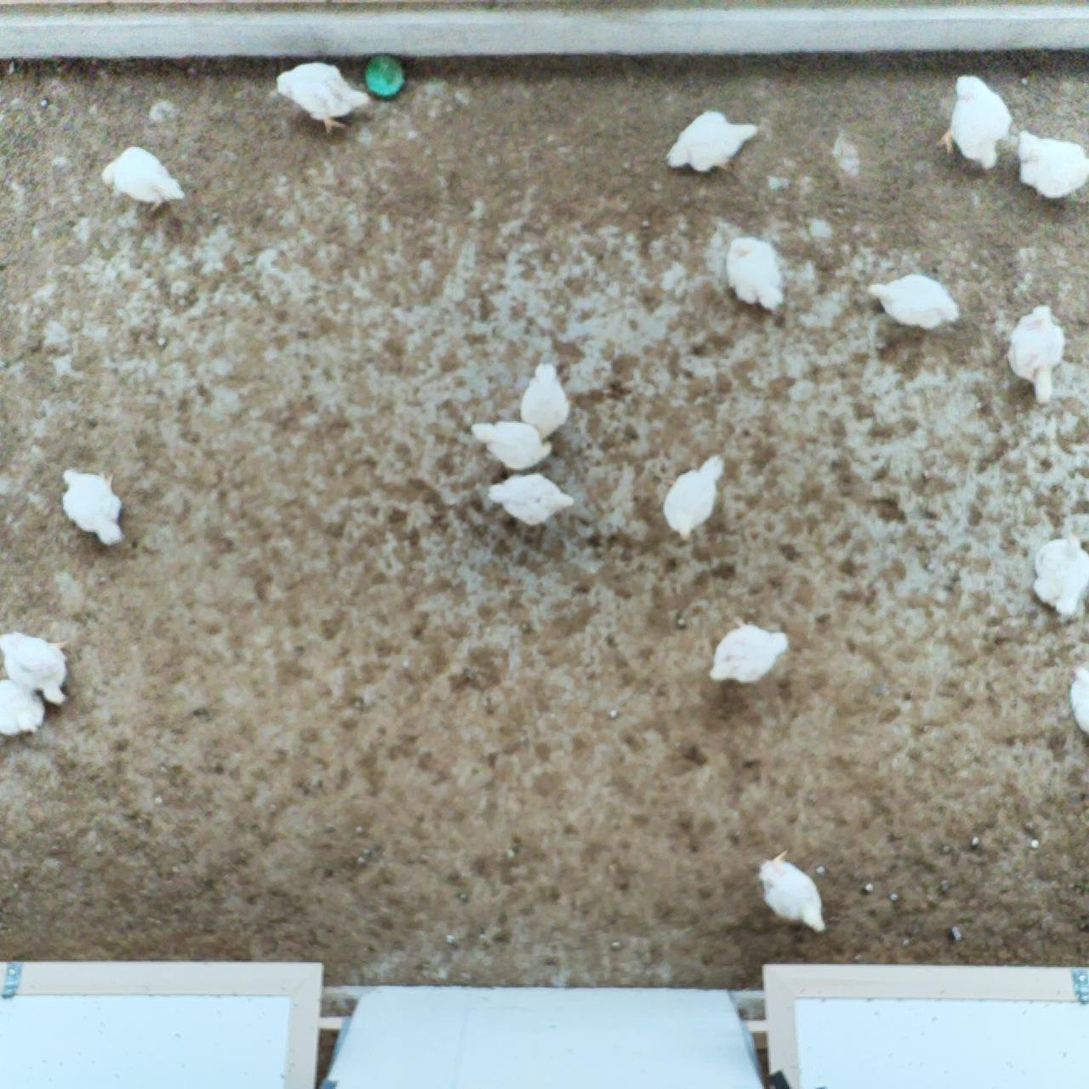chicken: (935, 71, 1015, 175), (273, 59, 373, 138), (661, 106, 764, 179), (1002, 300, 1071, 408), (754, 845, 829, 936), (660, 450, 730, 543), (99, 142, 187, 214), (865, 272, 965, 334), (1013, 127, 1089, 207), (0, 630, 75, 706), (721, 232, 791, 313), (60, 465, 126, 548), (1027, 531, 1089, 619), (708, 621, 791, 686), (485, 472, 578, 527), (468, 420, 556, 473), (517, 361, 574, 438), (0, 676, 47, 739), (1063, 655, 1089, 738)
